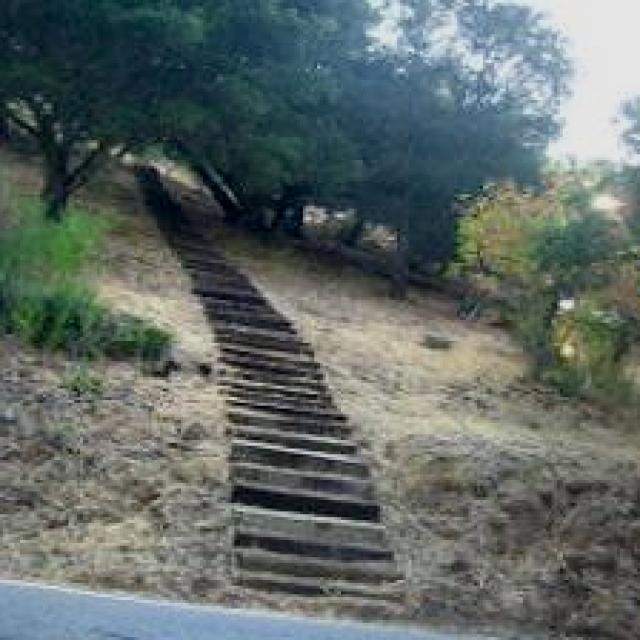upstair: (215, 347, 404, 604)
